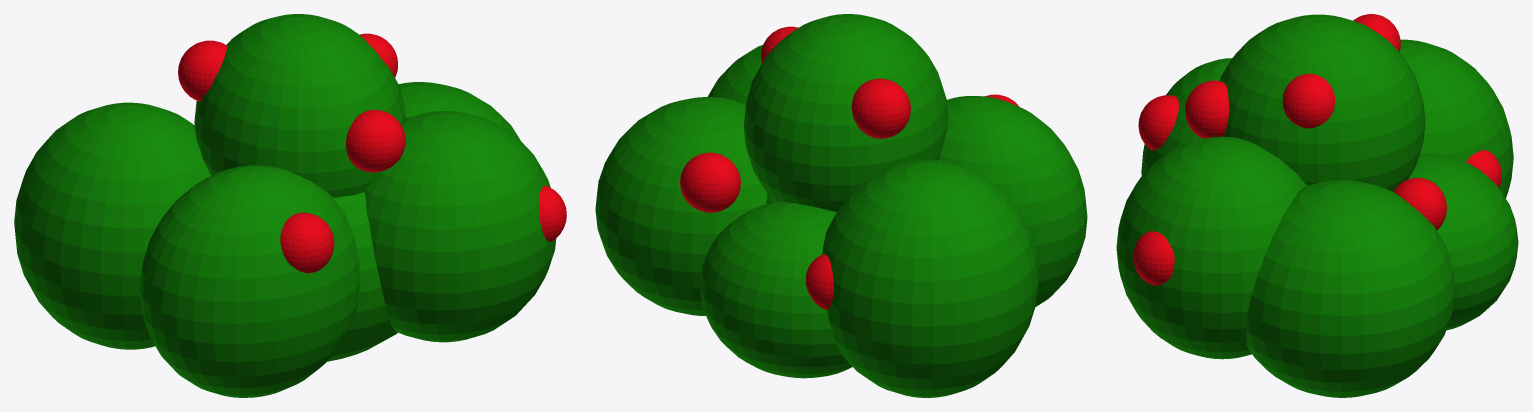
Rendered from object_bush1.dae.
The picture shows the model from 3 angles, left to right: view 1: azimuth 30°, elevation 25°; view 2: azimuth 150°, elevation 25°; view 3: azimuth 270°, elevation 25°; orthographic projection. The views are drawn at different scales.
Parts seen in each view (by area): view 1: Sphere.003, Sphere.002, Sphere.001, Sphere.006, Sphere, Sphere.010, Sphere.004, Sphere.011, Sphere.008, Sphere.012, Sphere.007; view 2: Sphere.001, Sphere.006, Sphere.004, Sphere.005, Sphere.003, Sphere.009, Sphere.008, Sphere.002, Sphere.013, Sphere.007; view 3: Sphere.004, Sphere.002, Sphere.006, Sphere.005, Sphere.001, Sphere.003, Sphere.007, Sphere.010, Sphere.012, Sphere.011, Sphere.009, Sphere.008 (+1 smaller).
Boxes of the visible parts, left/top/right/bottom form: Sphere.003: left=140, top=165, right=360, bottom=397; Sphere.002: left=364, top=111, right=556, bottom=342; Sphere.001: left=14, top=102, right=211, bottom=349; Sphere.006: left=194, top=14, right=405, bottom=197; Sphere: left=327, top=192, right=397, bottom=361; Sphere.010: left=346, top=110, right=405, bottom=172; Sphere.004: left=398, top=82, right=520, bottom=140; Sphere.011: left=280, top=212, right=334, bottom=273; Sphere.008: left=178, top=40, right=227, bottom=101; Sphere.012: left=539, top=185, right=566, bottom=241; Sphere.007: left=360, top=33, right=397, bottom=77; Sphere.001: left=822, top=160, right=1038, bottom=397; Sphere.006: left=743, top=14, right=948, bottom=211; Sphere.004: left=595, top=97, right=767, bottom=315; Sphere.005: left=700, top=201, right=852, bottom=378; Sphere.003: left=939, top=96, right=1087, bottom=306; Sphere.009: left=680, top=152, right=740, bottom=212; Sphere.008: left=851, top=78, right=910, bottom=138; Sphere.002: left=707, top=45, right=762, bottom=104; Sphere.013: left=806, top=254, right=833, bottom=309; Sphere.007: left=761, top=26, right=798, bottom=63; Sphere.004: left=1246, top=180, right=1455, bottom=397; Sphere.002: left=1116, top=136, right=1306, bottom=359; Sphere.006: left=1220, top=14, right=1425, bottom=191; Sphere.005: left=1408, top=153, right=1518, bottom=330; Sphere.001: left=1399, top=39, right=1513, bottom=198; Sphere.003: left=1141, top=58, right=1232, bottom=175; Sphere.007: left=1282, top=73, right=1334, bottom=128; Sphere.010: left=1185, top=80, right=1229, bottom=138; Sphere.012: left=1133, top=231, right=1174, bottom=285; Sphere.011: left=1138, top=95, right=1178, bottom=150; Sphere.009: left=1393, top=178, right=1446, bottom=230; Sphere.008: left=1353, top=14, right=1400, bottom=51.
Bounding box in the file's own units: 3.72 × 2.94 × 2.44.
